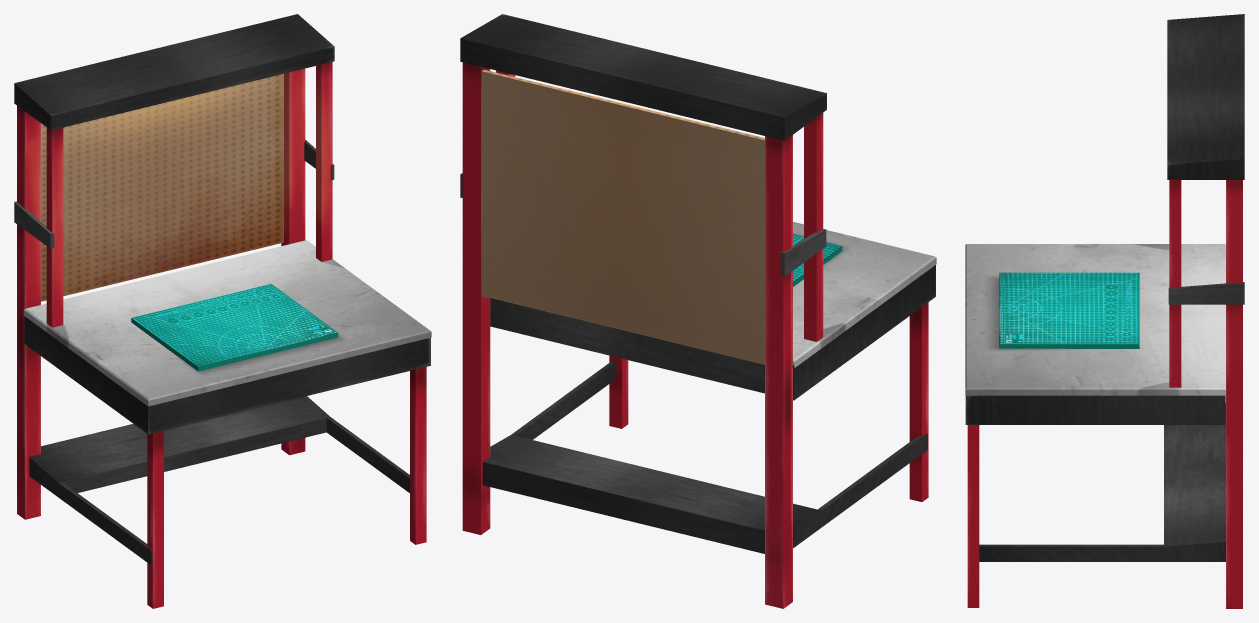
Rendered from prop_table.glb.
3 renders of one model, left to right at view 1: azimuth 30°, elevation 25°; view 2: azimuth 150°, elevation 25°; view 3: azimuth 270°, elevation 25°, orthographic. The views are drawn at different scales.
Visible parts, largest first — view 1: Plane.002; view 2: Plane.002; view 3: Plane.002.
Part boxes in pixels (x1,y1,x2,y2): Plane.002: [14, 14, 431, 608]; Plane.002: [460, 14, 936, 608]; Plane.002: [965, 14, 1244, 608].
Bounding box in the file's own units: 2.42 × 3.51 × 1.97.
Materials: 1 (1 with a texture image).
